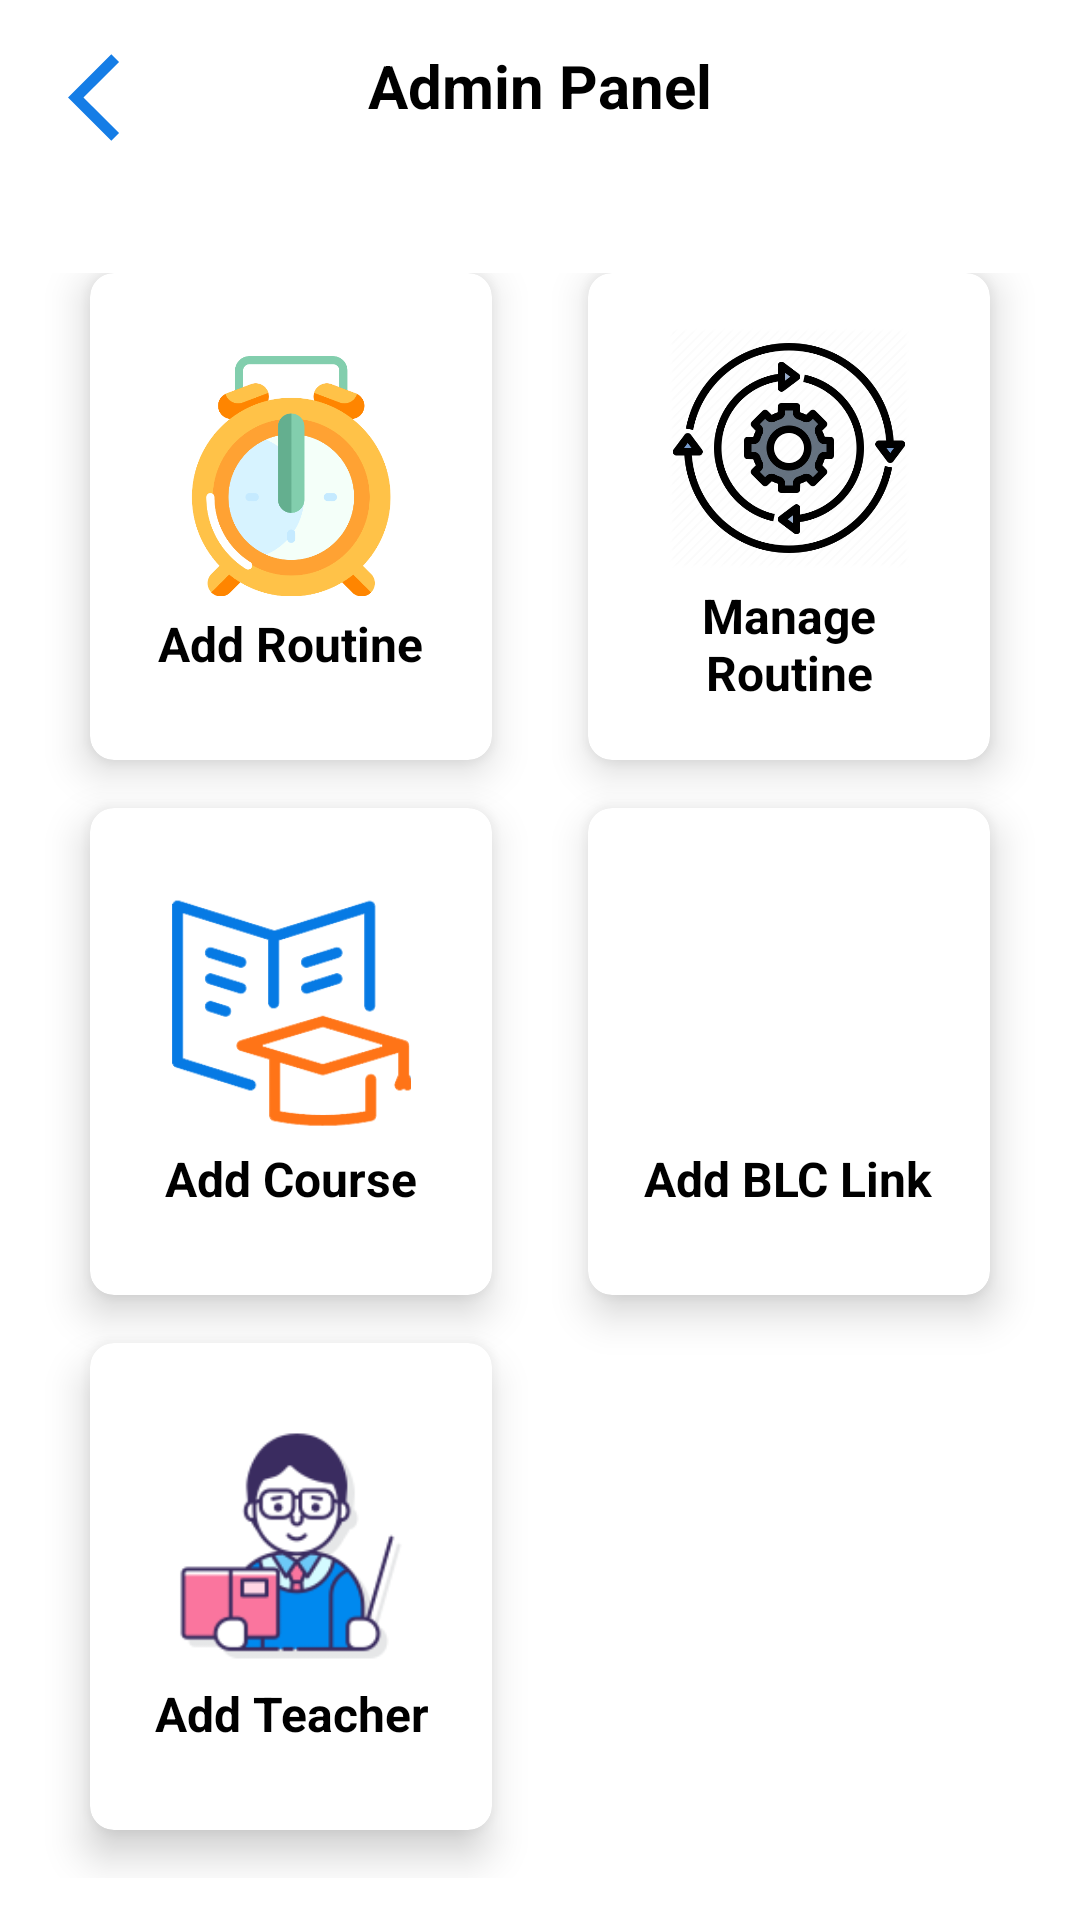

Where icons sit on this 1080 × 1920 app screen, as bbox=(x1, y1, x2, y2):
back: bbox=(68, 54, 119, 141)
